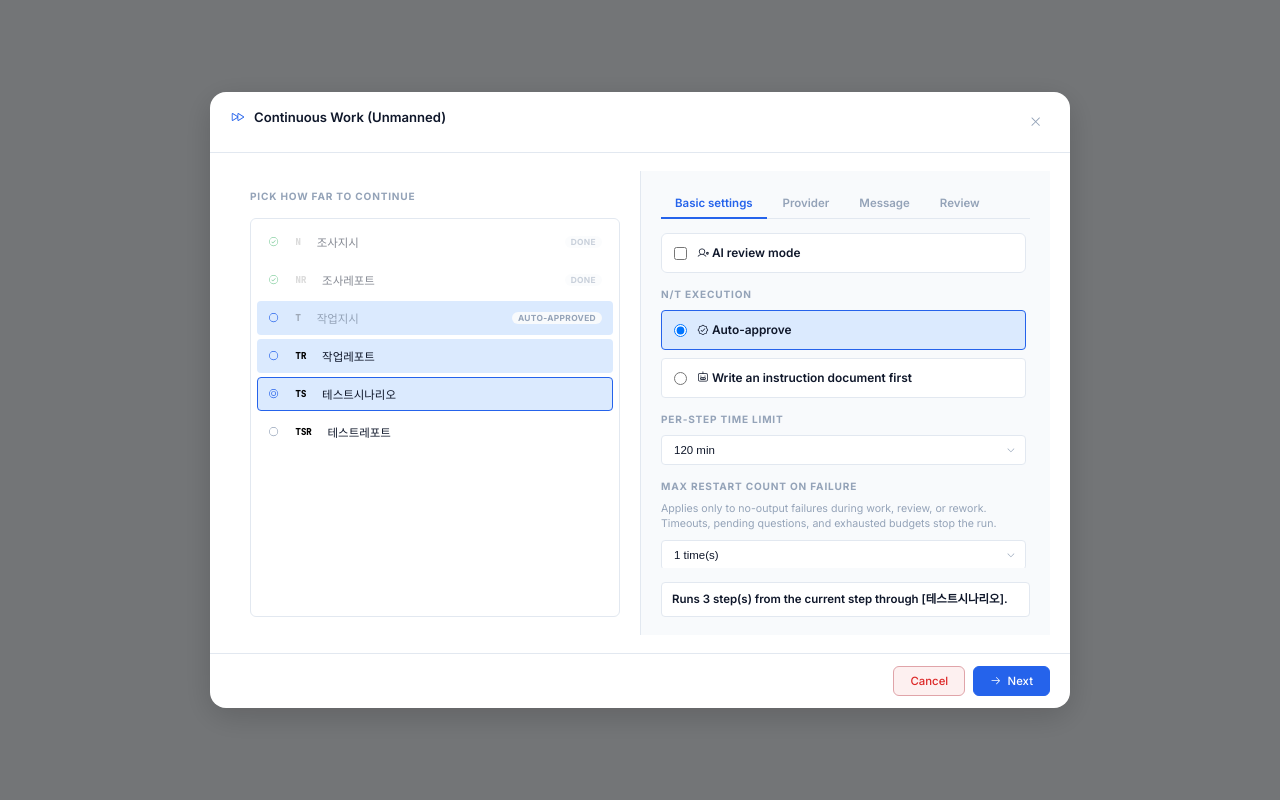
Test: ContinuousWorkDialog [검수] 탭 화면 (0414 T0012 작업 1) › 짧은 숫자 범례와 단계별 행만 두고, 공용 카드는 없다
The image size is (1280, 800).
Click the button with class "cwd-tab" showing "Review" at (960, 204), box [926,189,994,219]
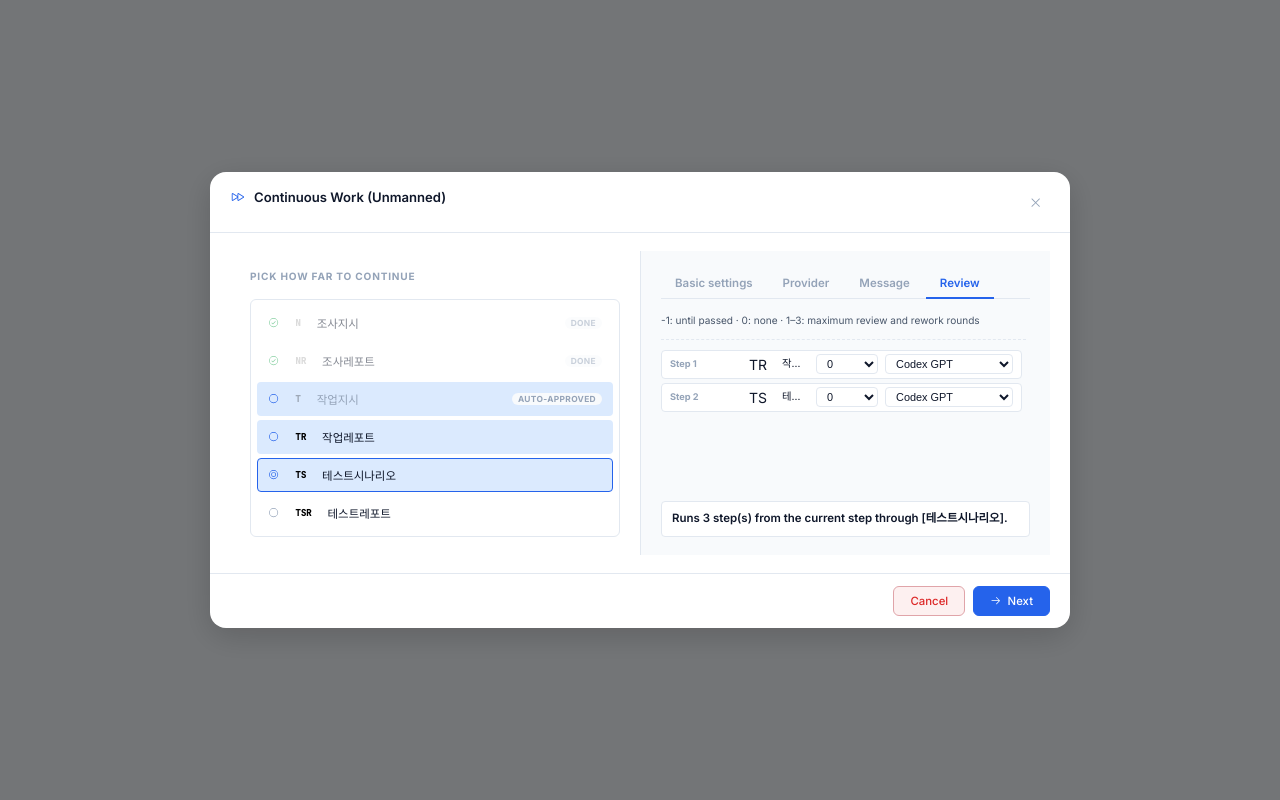
Check: the text with class "cwd-review-legend" reads "-1: until passed · 0: none · 1–3: maximum review and rework rounds", box [661,314,980,326]
Click the button with class "cwd-tab" showing "Provider" at (806, 284), box [769,269,843,299]
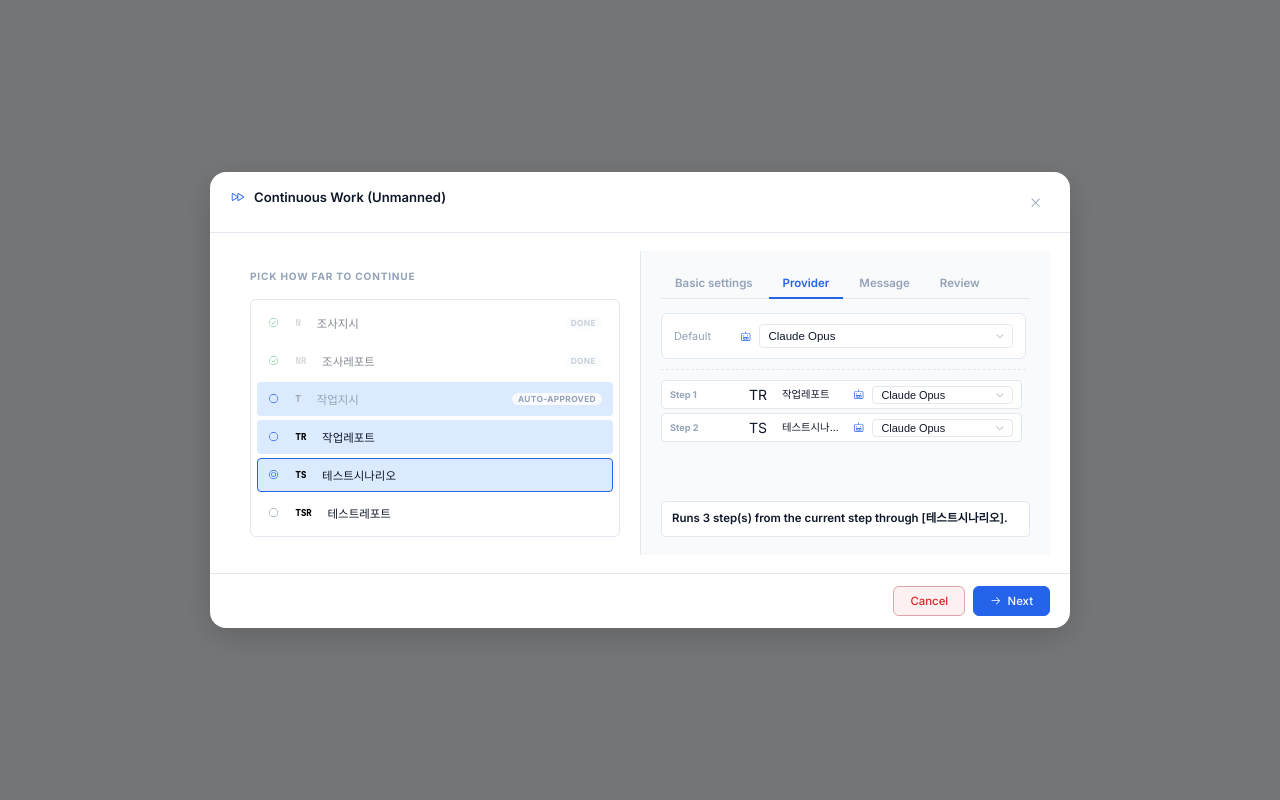
Check: the number of elements with class "cwd-provider-row" is 1, box [661,313,1026,359]
